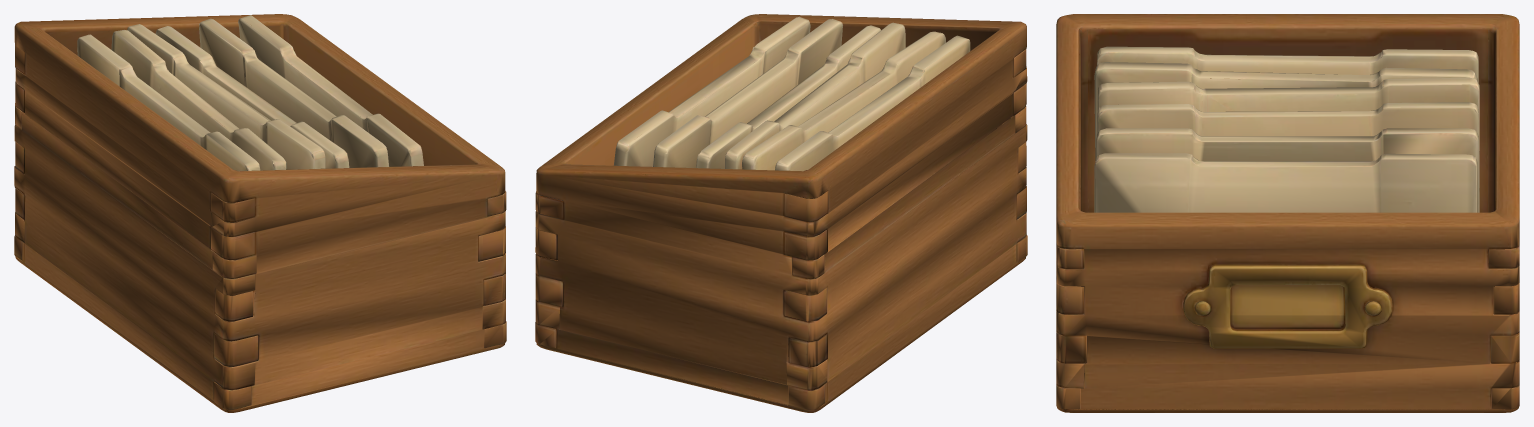
The model's file is card-box-lod1.glb.
The picture shows the model from 3 angles, left to right: view 1: azimuth 30°, elevation 25°; view 2: azimuth 150°, elevation 25°; view 3: azimuth 270°, elevation 25°; orthographic projection. The views are drawn at different scales.
Parts seen in each view (by area): view 1: meshes[0]; view 2: meshes[0]; view 3: meshes[0].
Part boxes in pixels (bbox=[...]): meshes[0]: bbox=[14, 14, 506, 412]; meshes[0]: bbox=[535, 14, 1027, 412]; meshes[0]: bbox=[1056, 14, 1519, 412].
Size of the model in its own units: 0.7794 by 0.6035 by 0.998.
Materials: 1 (1 with a texture image).
